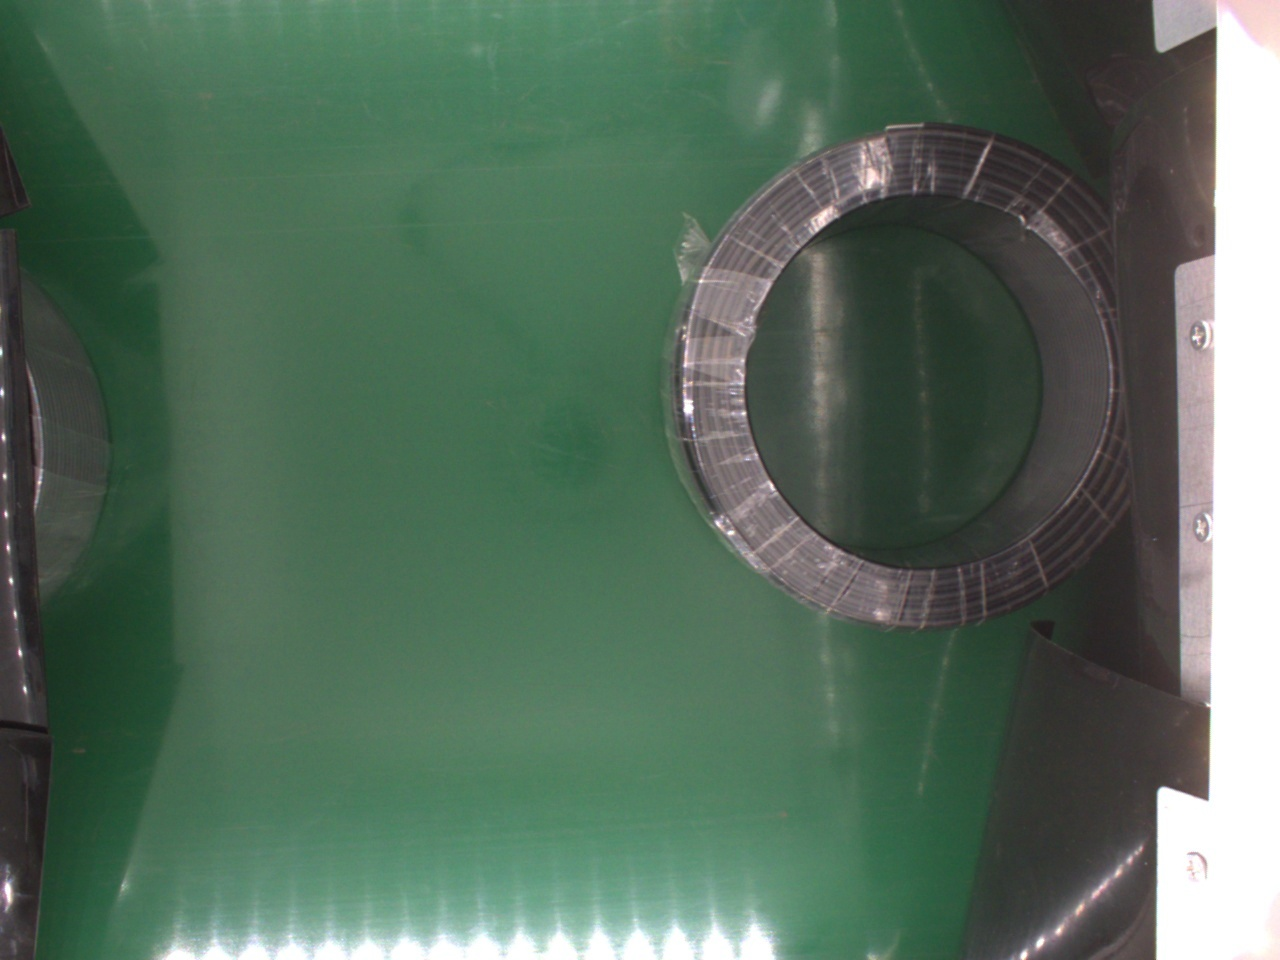black: (665, 122, 1138, 635)
